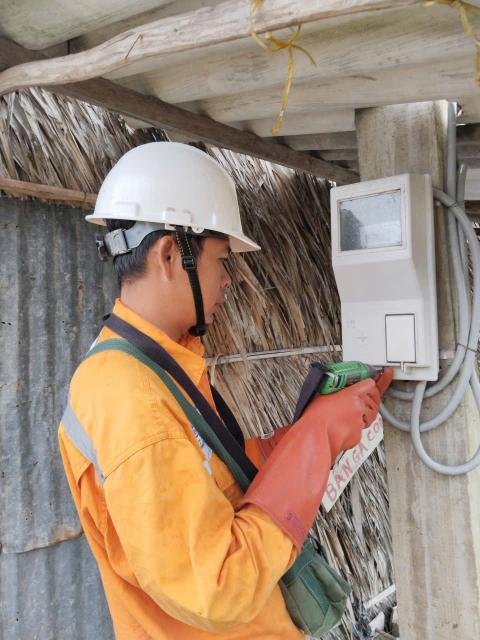gloves: (242, 365, 395, 560), (262, 371, 391, 462)
helmet: (78, 126, 277, 258)
